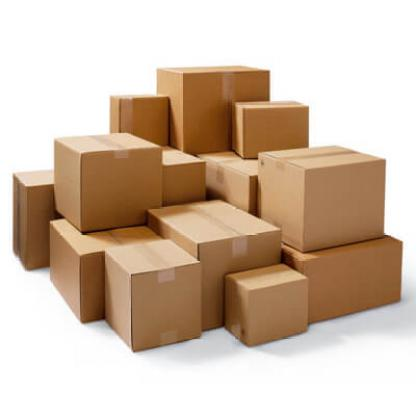box: (256, 143, 388, 252), (101, 235, 205, 352), (52, 130, 161, 231), (221, 262, 309, 346), (230, 98, 311, 160)
